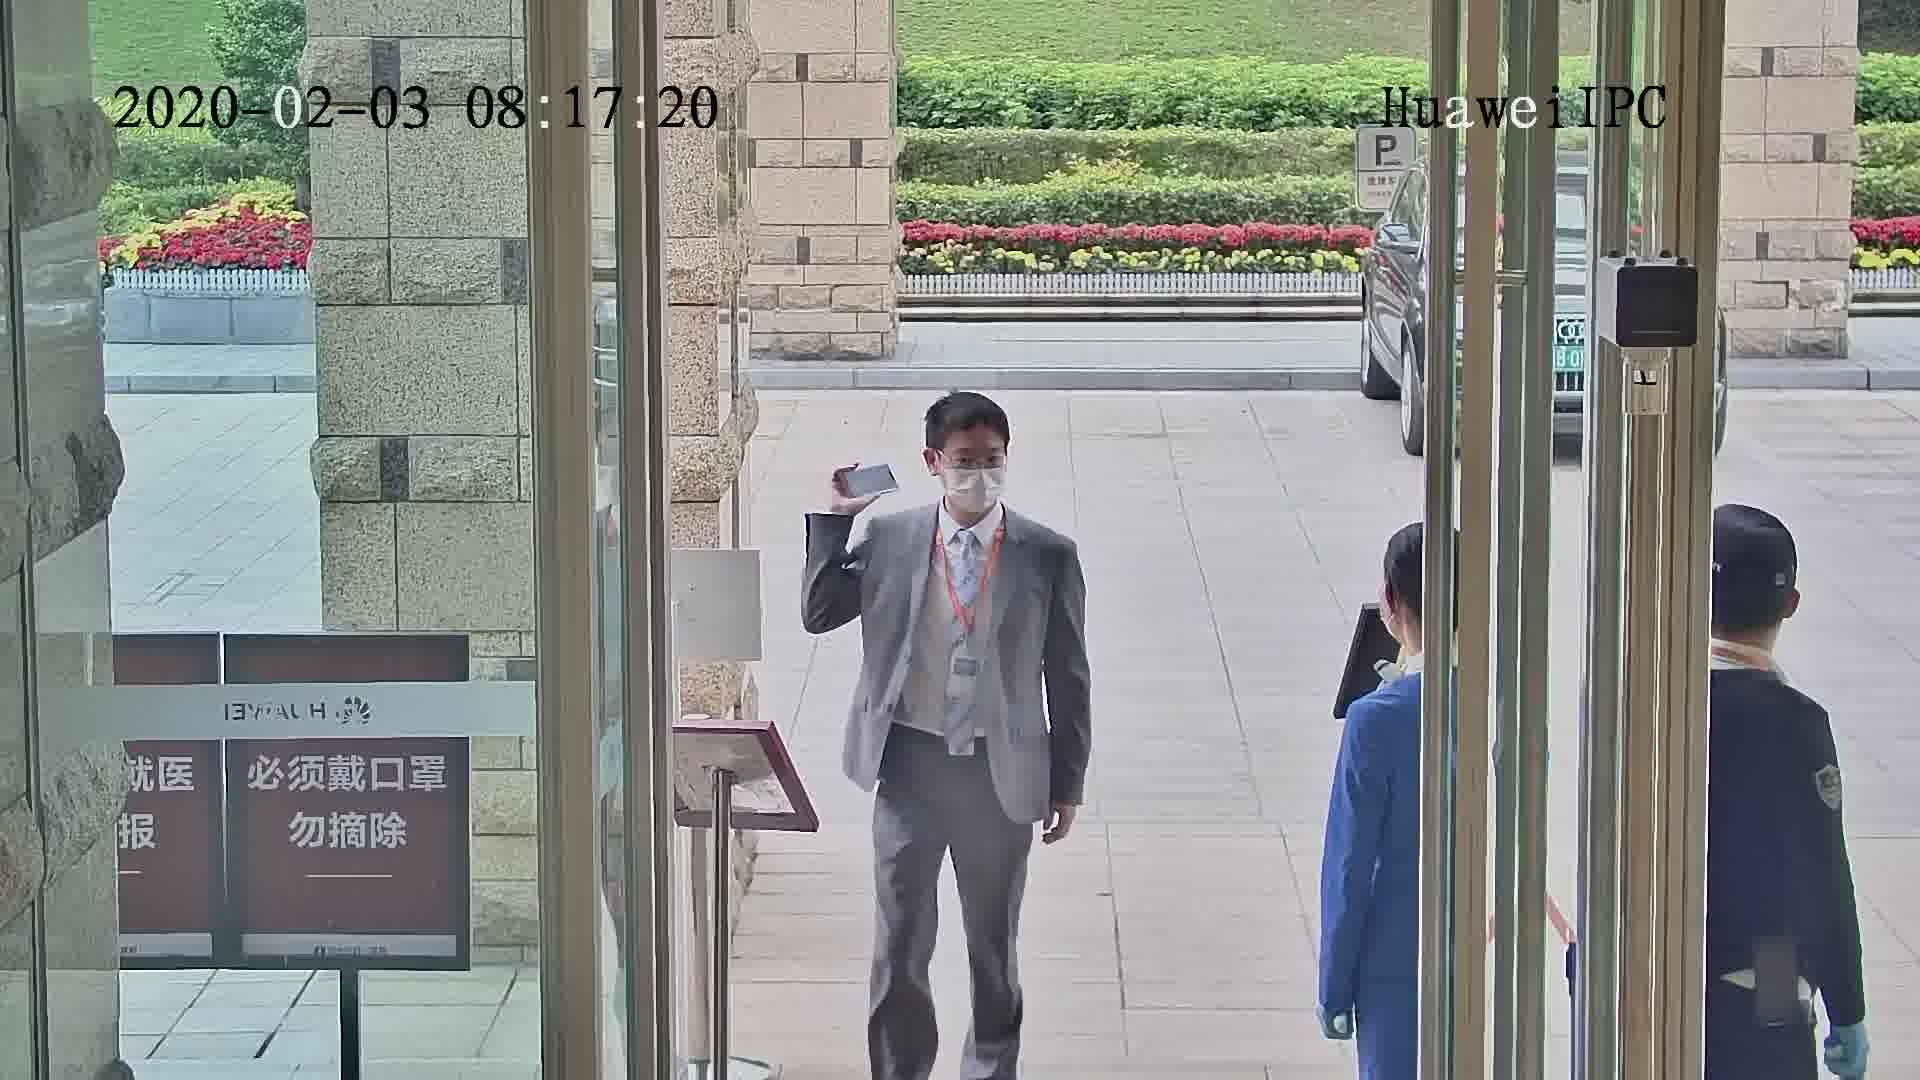face: (936, 422, 1015, 522)
mask: (947, 466, 1011, 513)
person: (1703, 503, 1842, 785), (869, 376, 1067, 558), (1344, 513, 1428, 771)
